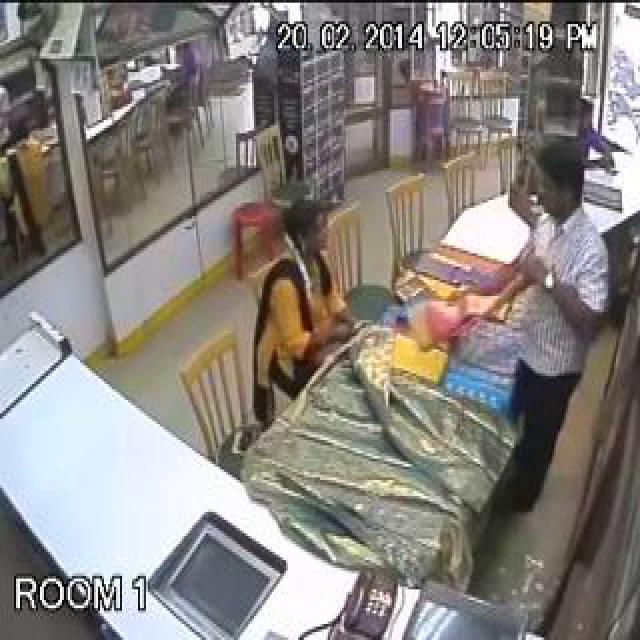shoplifting: (207, 112, 504, 605)
